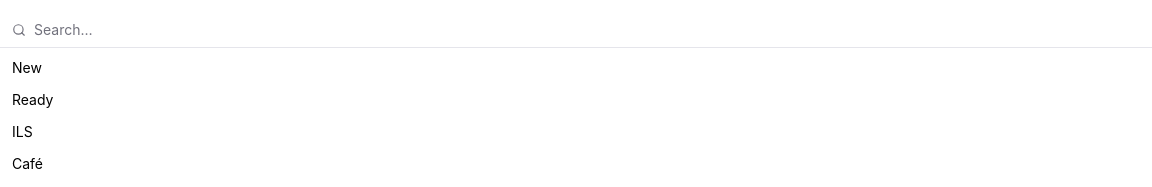
Test: OptionList › says when nothing matches
The image size is (1152, 187).
Type "zzz" into the dropdown named "Stage" at (587, 30), box [34, 12, 1140, 47]
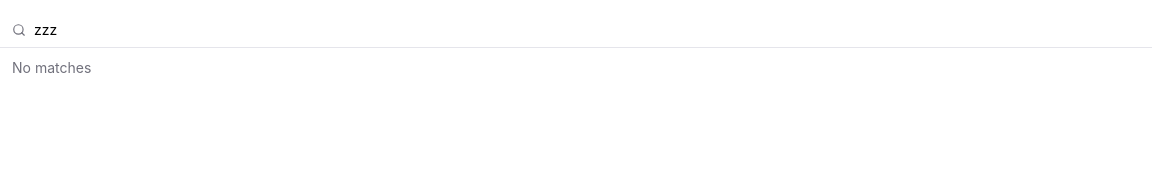
Check: the text "No matches" is shown, box [12, 59, 91, 76]
